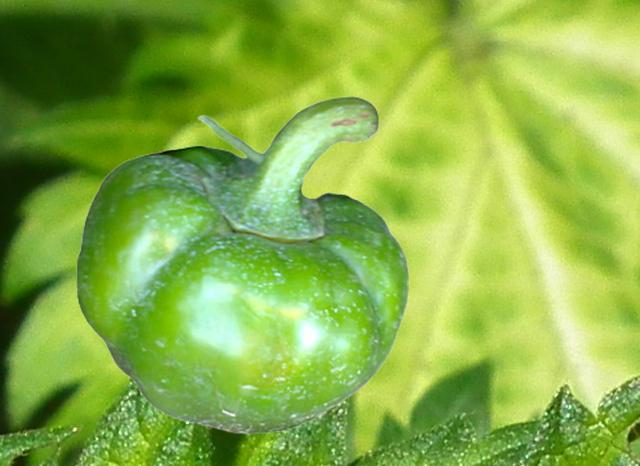bell_pepper: (76, 95, 408, 433)
